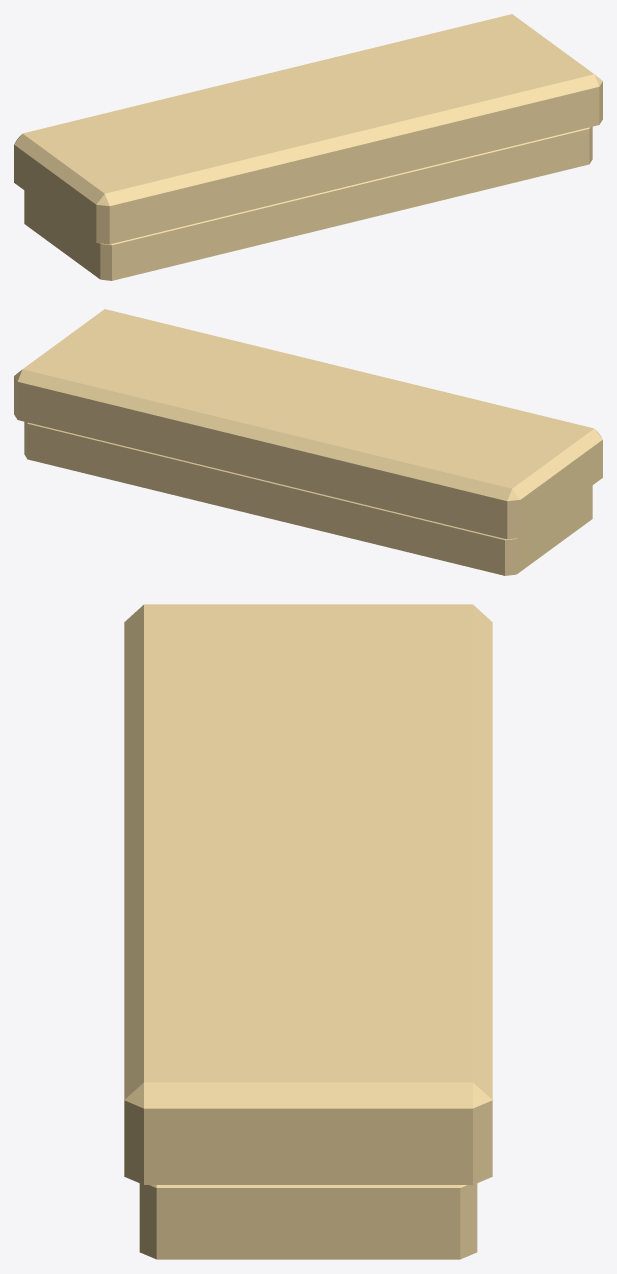
The model's file is TrainingBoard.fbx.
3 views of the same model, one above another, from view 1: azimuth 30°, elevation 25°; view 2: azimuth 150°, elevation 25°; view 3: azimuth 270°, elevation 25° (orthographic). The views are drawn at different scales.
Visible parts, largest first — view 1: TrainingBoard; view 2: TrainingBoard; view 3: TrainingBoard.
Boxes of the visible parts, bbox=[...] form: TrainingBoard: bbox=[14, 14, 602, 280]; TrainingBoard: bbox=[14, 309, 602, 575]; TrainingBoard: bbox=[124, 604, 492, 1259].
Bounding box in the file's own units: 4.16 × 0.69 × 1.31.
